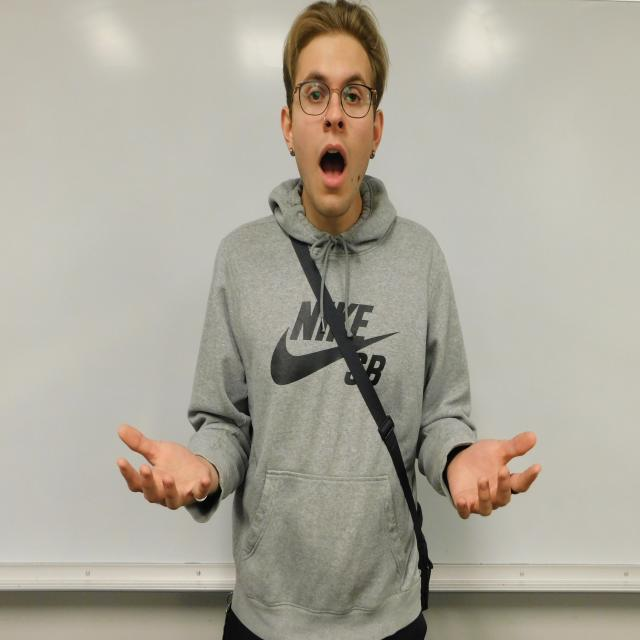want: (117, 424, 543, 520)
